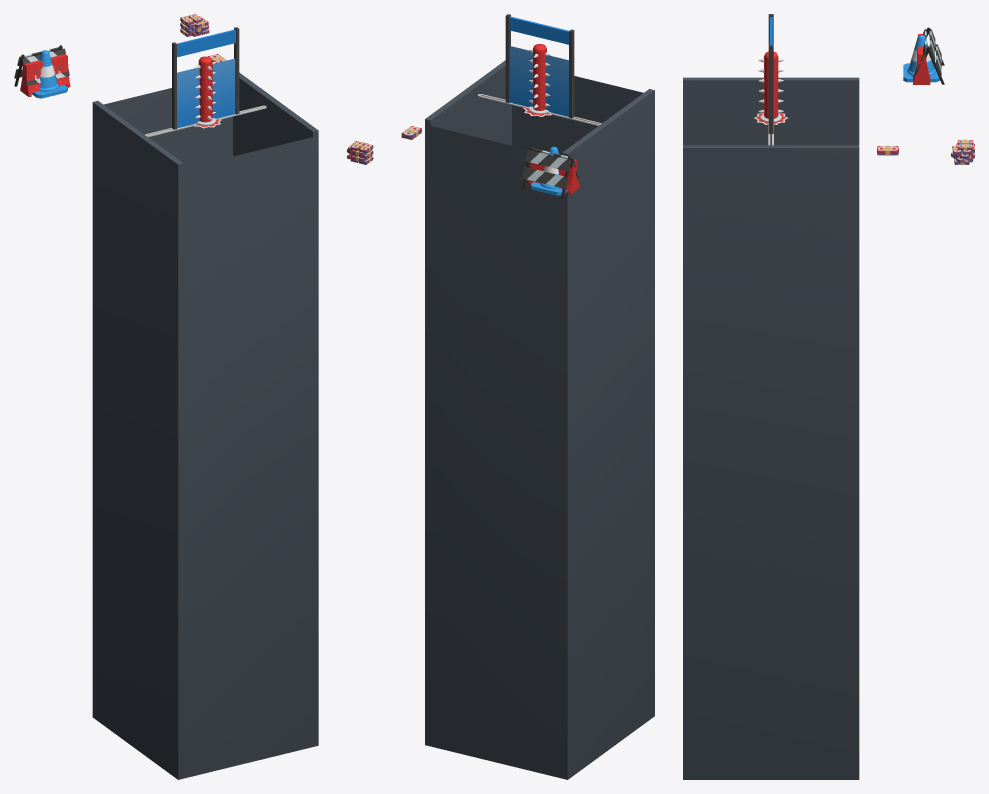
File: Obstacle+Road_02.fbx
3 views of the same model, side by side, from view 1: azimuth 30°, elevation 25°; view 2: azimuth 150°, elevation 25°; view 3: azimuth 270°, elevation 25° (orthographic). The views are drawn at different scales.
Parts seen in each view (by area): view 1: Road, Blu, Obstacle_01, Tuong, Tru, Hangrao, Red; view 2: Road, Blu, Hangrao, Obstacle_01, Red; view 3: Road, Obstacle_01, Blu, Tru, Hangrao.
Boxes of the visible parts, x1,y1,x2,y2 form: Road: (92, 72, 318, 779); Blu: (172, 27, 238, 129); Obstacle_01: (195, 56, 215, 122); Tuong: (20, 54, 70, 96); Tru: (31, 50, 67, 98); Hangrao: (14, 45, 69, 96); Red: (172, 27, 239, 129); Road: (425, 60, 654, 779); Blu: (506, 14, 574, 118); Hangrao: (522, 146, 578, 199); Obstacle_01: (529, 44, 550, 110); Red: (505, 14, 572, 117); Road: (683, 77, 859, 779); Obstacle_01: (758, 51, 783, 118); Blu: (768, 14, 773, 134); Tru: (903, 34, 939, 82); Hangrao: (915, 27, 944, 84).
Size of the model in its own units: 326 by 1067 by 395.
